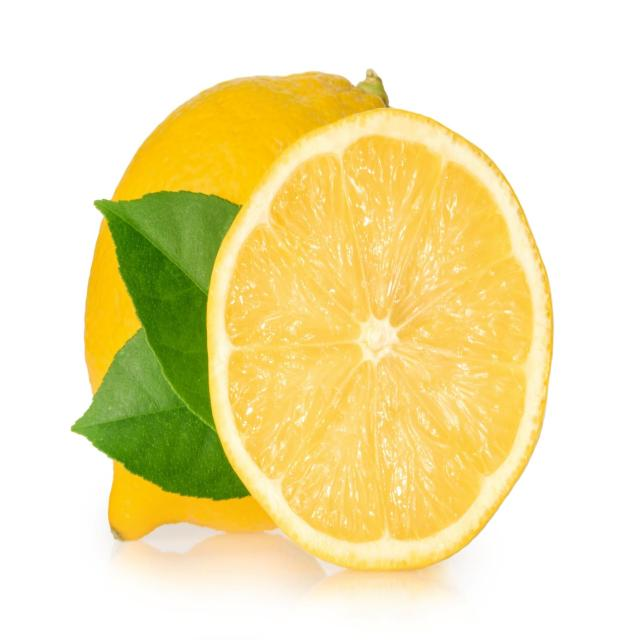lemon: (201, 101, 556, 580)
